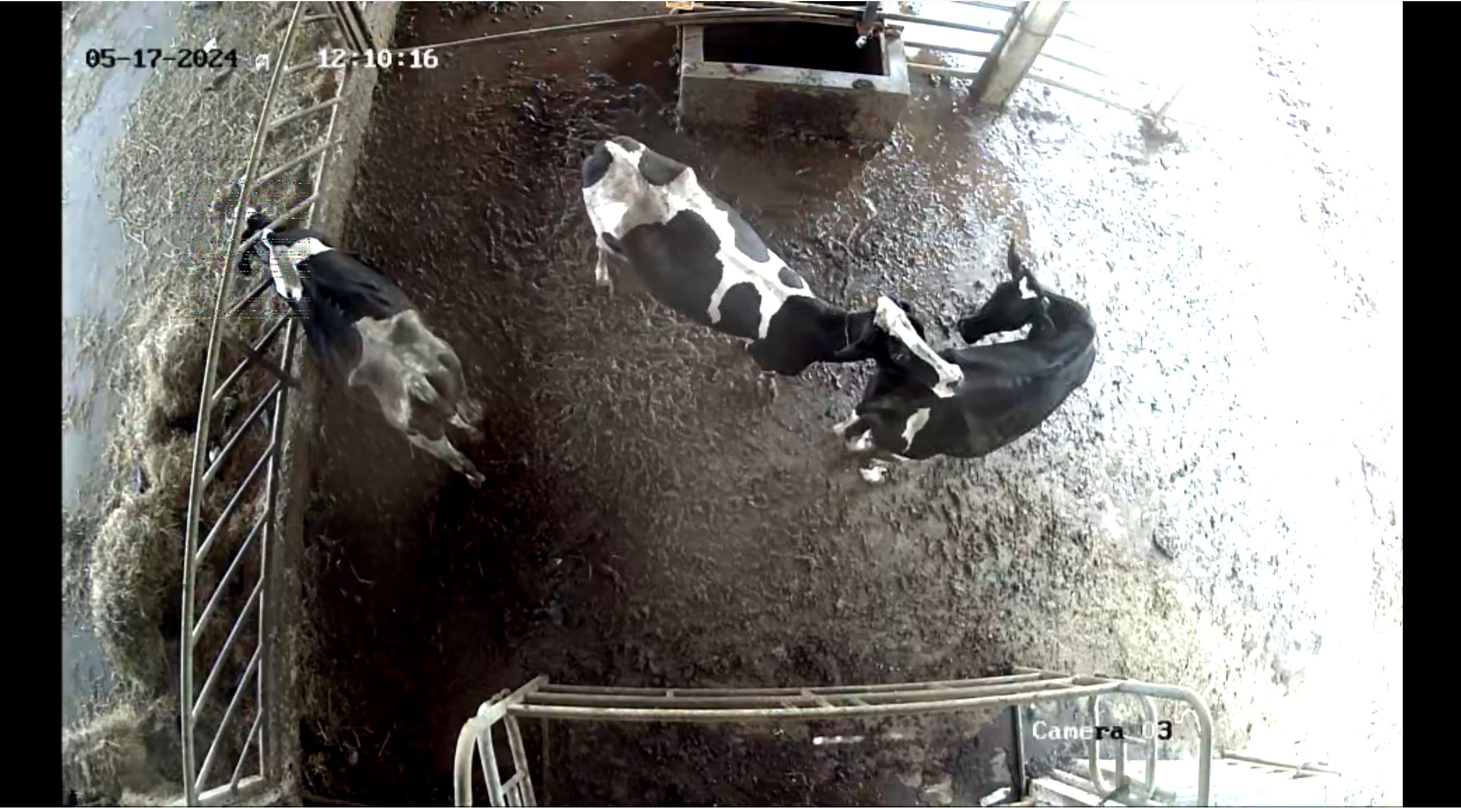eat: (158, 186, 338, 298)
propping: (802, 285, 968, 427)
stand: (870, 229, 1113, 490)
